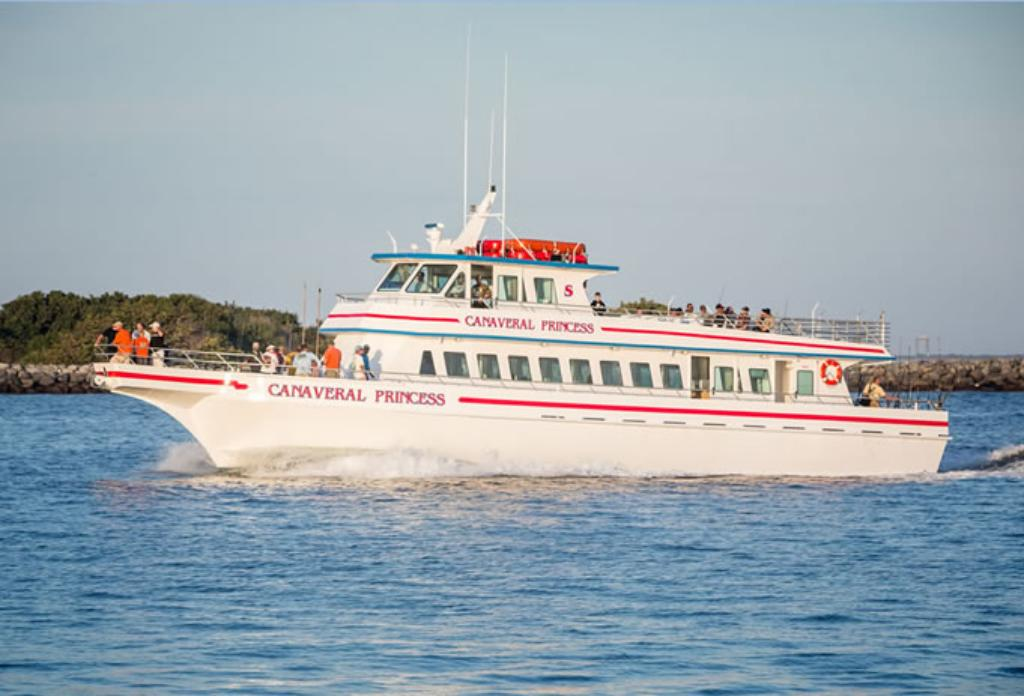PassengerShip: (64, 190, 966, 498)
